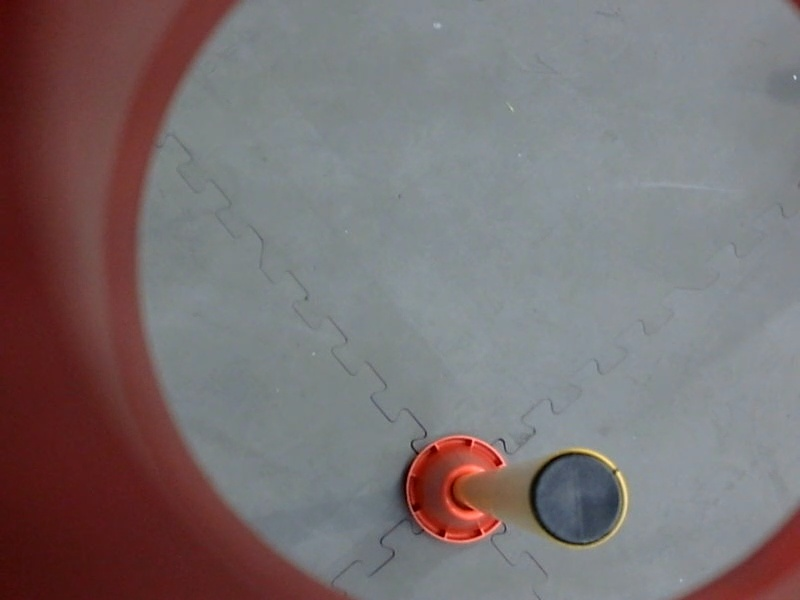tip: (526, 442, 633, 556)
